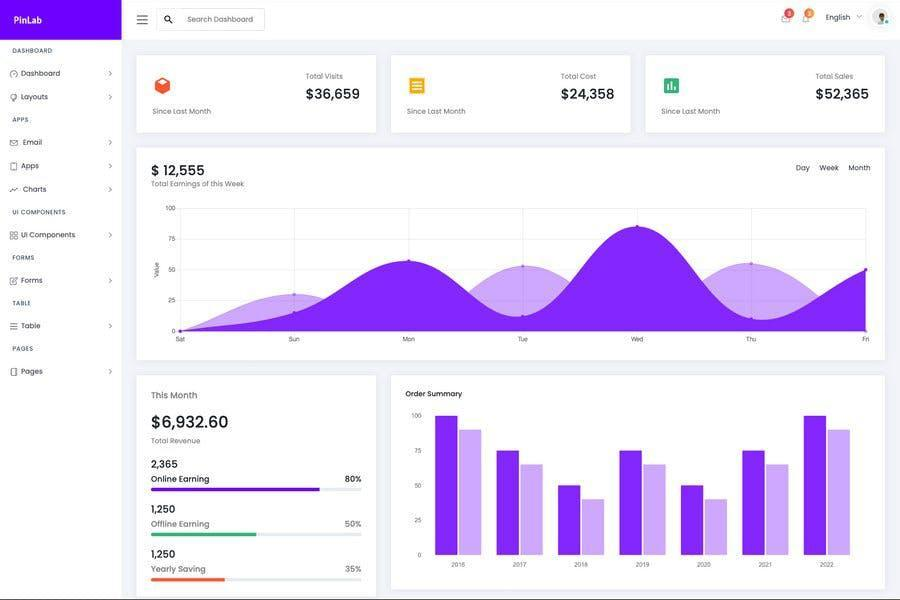icon: (800, 8, 821, 31), (873, 8, 892, 33), (780, 8, 799, 31), (137, 14, 150, 28), (8, 185, 22, 196), (9, 160, 19, 175), (9, 230, 20, 243), (164, 13, 174, 27), (9, 276, 20, 288), (9, 322, 21, 333), (9, 139, 20, 150), (11, 208, 21, 220), (9, 70, 19, 80), (11, 92, 19, 104)
input: (157, 9, 266, 32)
label: (825, 10, 858, 28)
